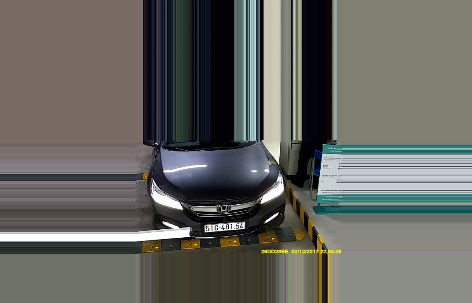plate: (204, 218, 245, 231)
